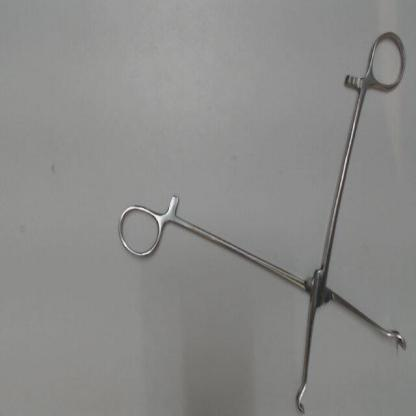8 Babcock Tissue Forceps: (114, 24, 411, 413)
